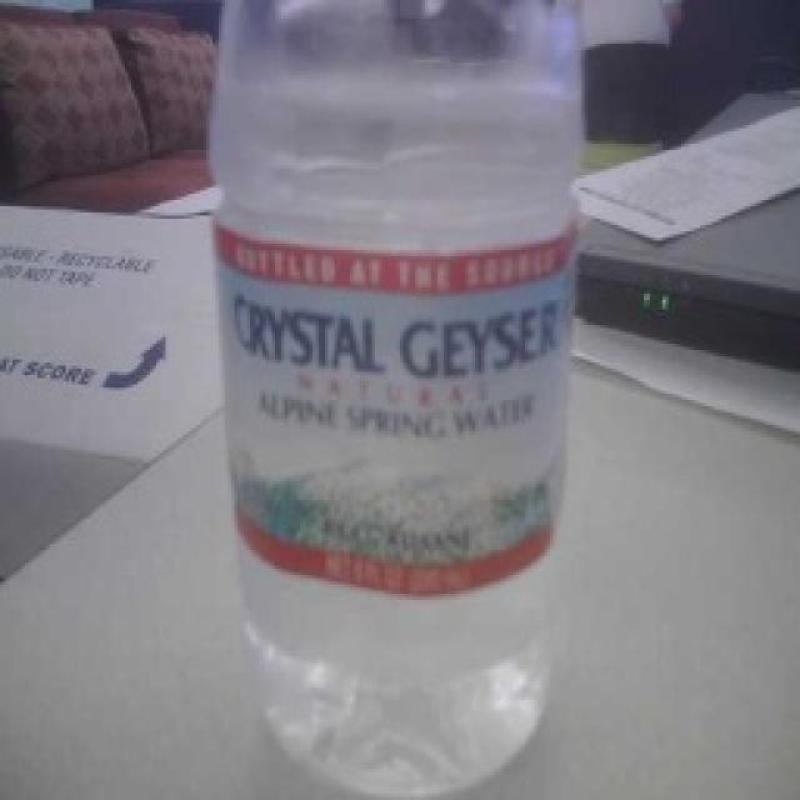botella: (210, 0, 588, 800)
